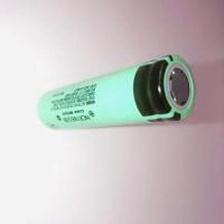battery: (33, 51, 198, 134)
